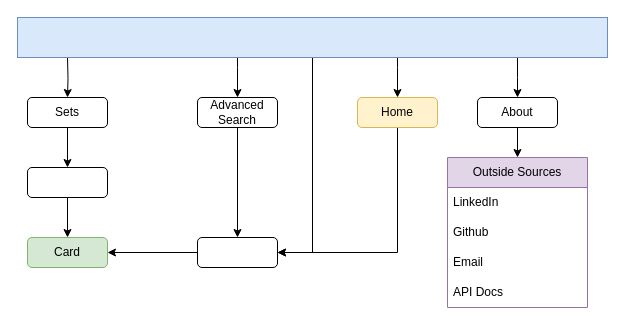
Some shapes in this 625 by 325 pixel diagram are drawn without their labels. Here are the shapes that lost their labels. From the top down, the box of each, then its label:
(16, 16, 608, 58): NavBar Header (All Pages)
(26, 166, 108, 198): Set
(196, 236, 278, 268): Results
